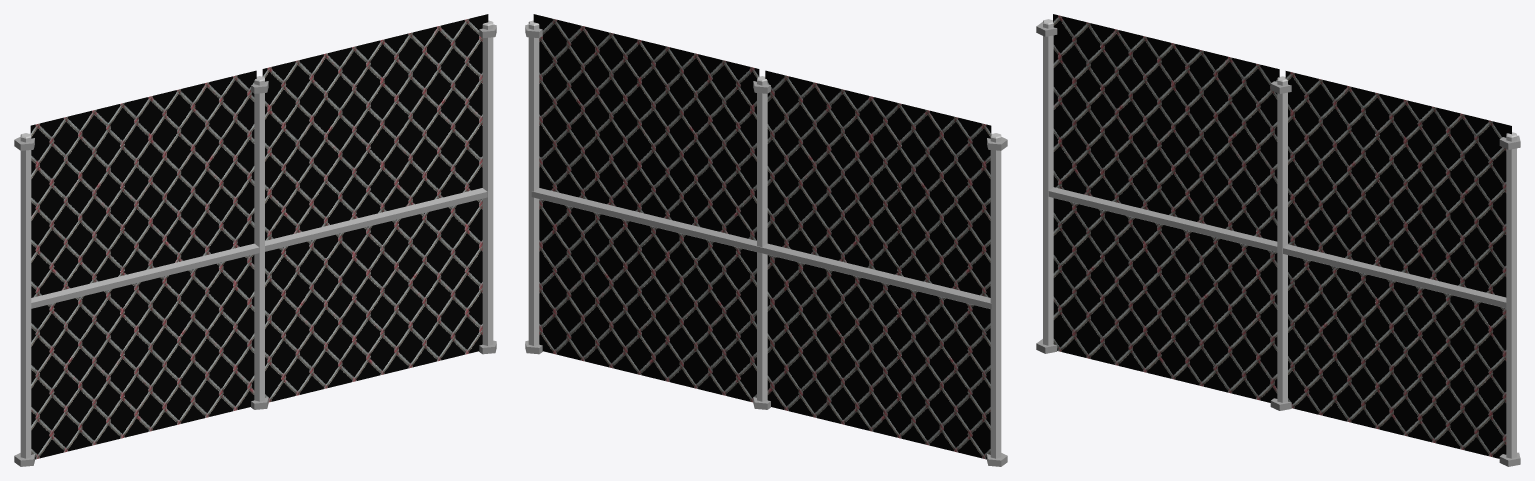
The model's file is Chain_Fench.fbx.
3 views of the same model, side by side, from view 1: azimuth 30°, elevation 25°; view 2: azimuth 150°, elevation 25°; view 3: azimuth 330°, elevation 25° (orthographic).
Visible parts, largest first — view 1: Fench; view 2: Fench; view 3: Fench.
Part boxes in pixels (bbox=[...]): Fench: bbox=[14, 14, 496, 466]; Fench: bbox=[525, 14, 1007, 466]; Fench: bbox=[1036, 14, 1520, 466].
Size of the model in its own units: 17.71 by 11.85 by 0.6832.
